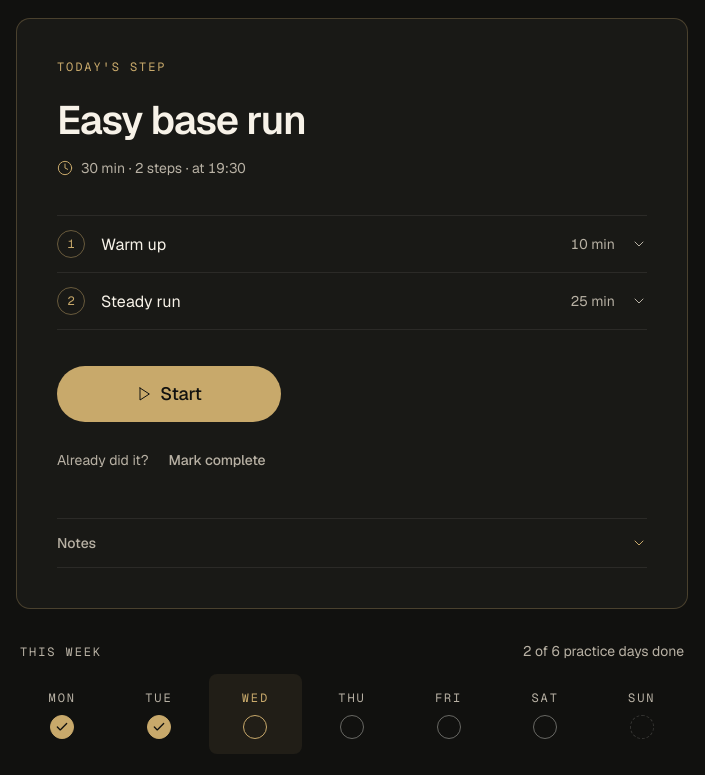
Test: Today › choosing another day shows that day's step
(page scrolled)
Click the button "Thu" at [352, 714], box [306,674,398,754]
(page scrolled)
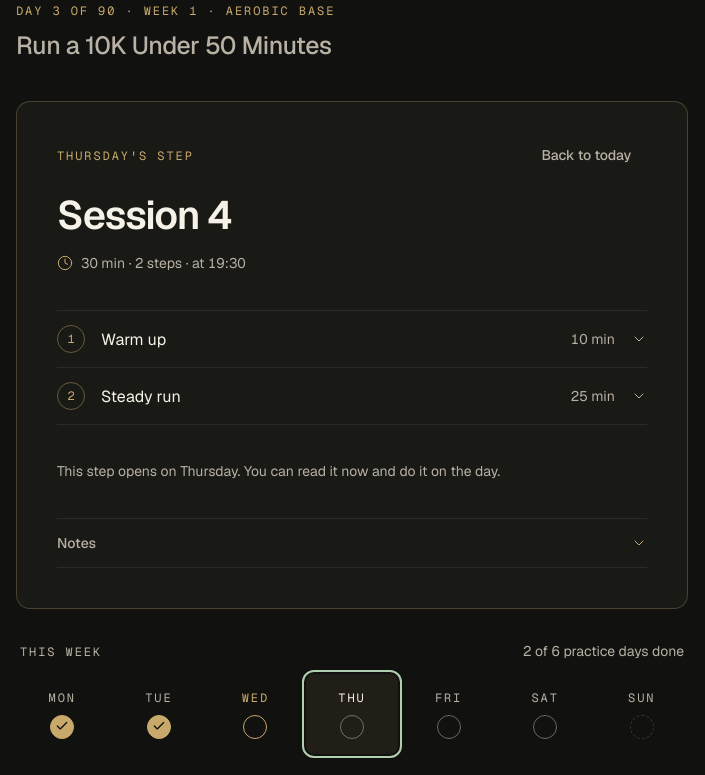
Expected: the element "Session 4" is shown
Expected: the text "Thursday's step" is shown, [57,148,194,164]
